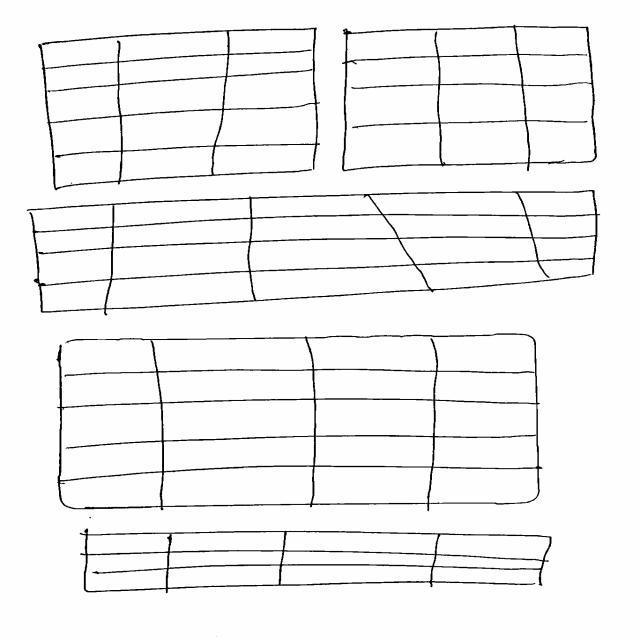table: (57, 334, 543, 512), (27, 191, 601, 316), (39, 29, 321, 191), (343, 25, 598, 172), (80, 529, 553, 594)
